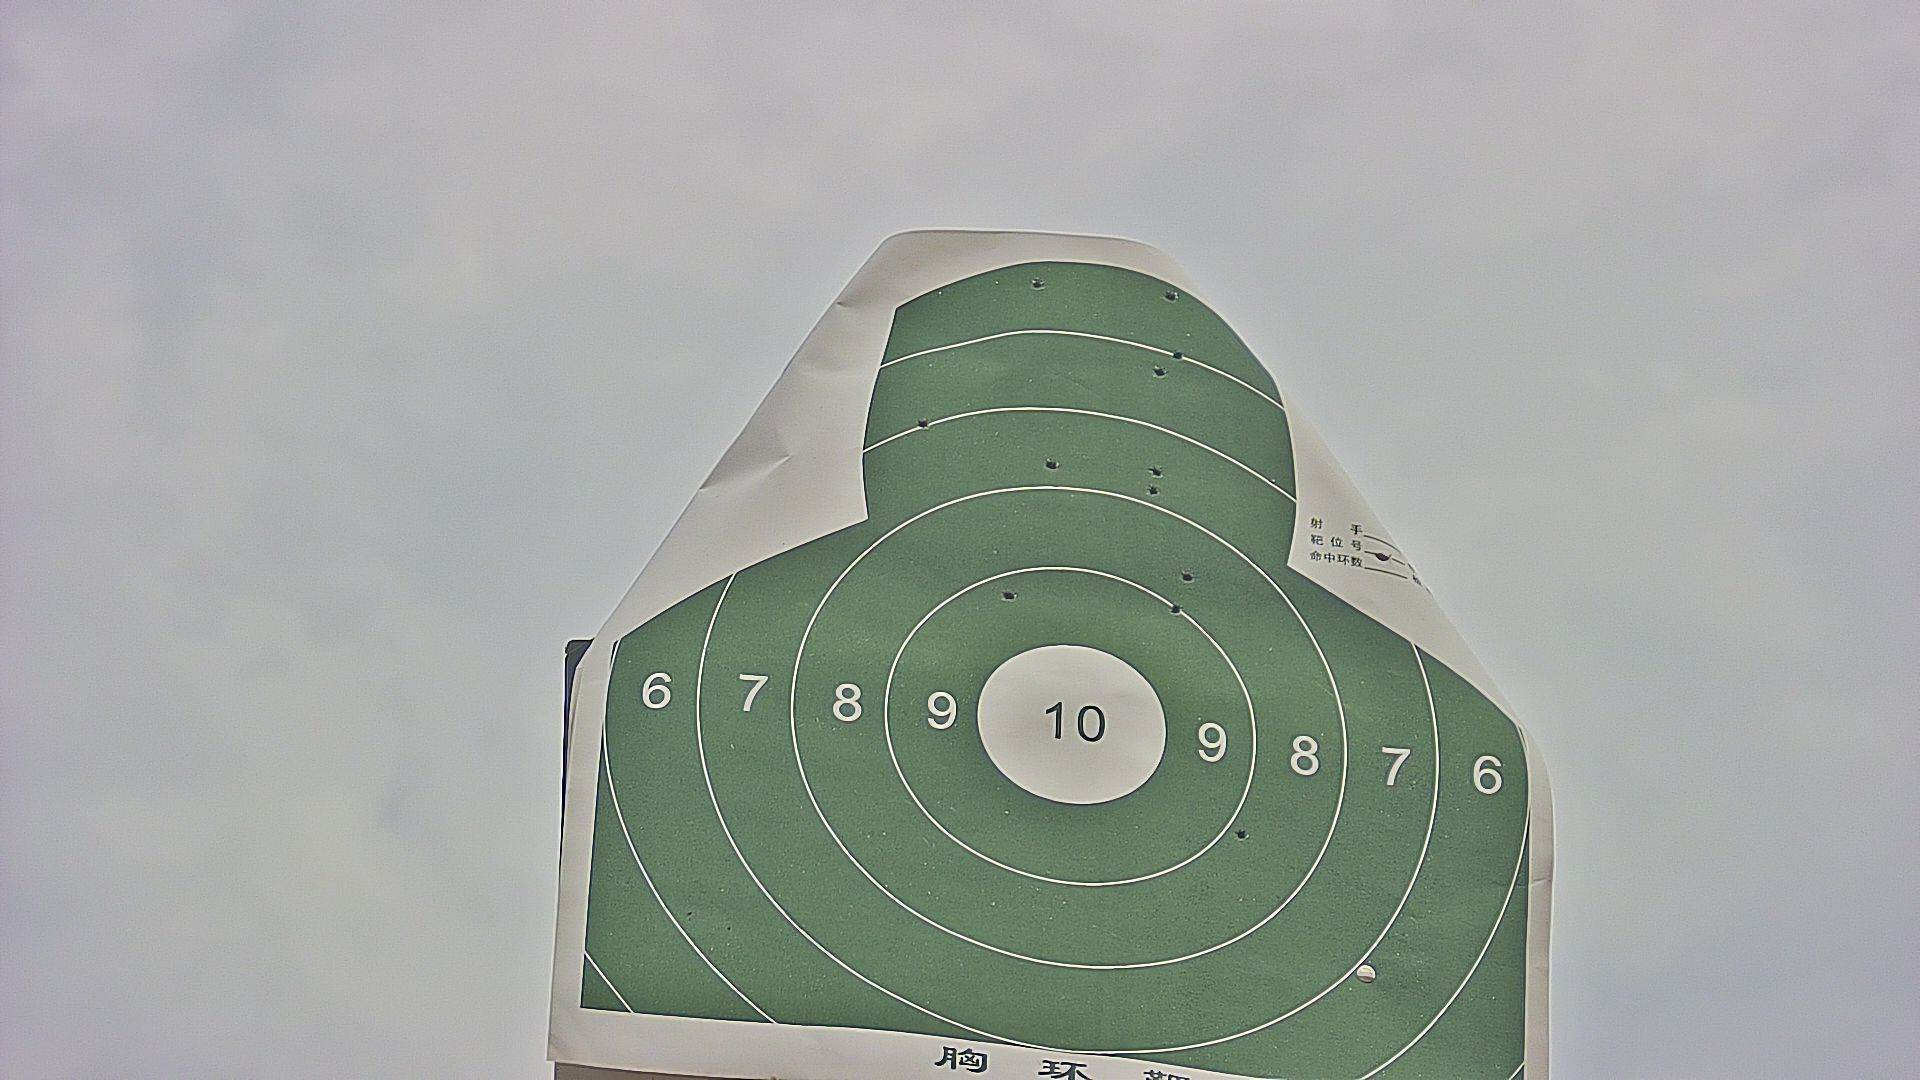hole: (1164, 287, 1178, 305), (1001, 588, 1014, 603), (1234, 829, 1249, 843), (1030, 276, 1044, 287), (1180, 571, 1195, 582), (1172, 348, 1184, 360), (1149, 465, 1160, 477), (1046, 456, 1056, 469), (1147, 483, 1158, 496), (916, 419, 927, 429), (1171, 603, 1182, 612), (1154, 365, 1163, 375)
kernel: (1067, 720, 1075, 728)
target: (578, 265, 1532, 1080)
ten: (975, 640, 1164, 807)
